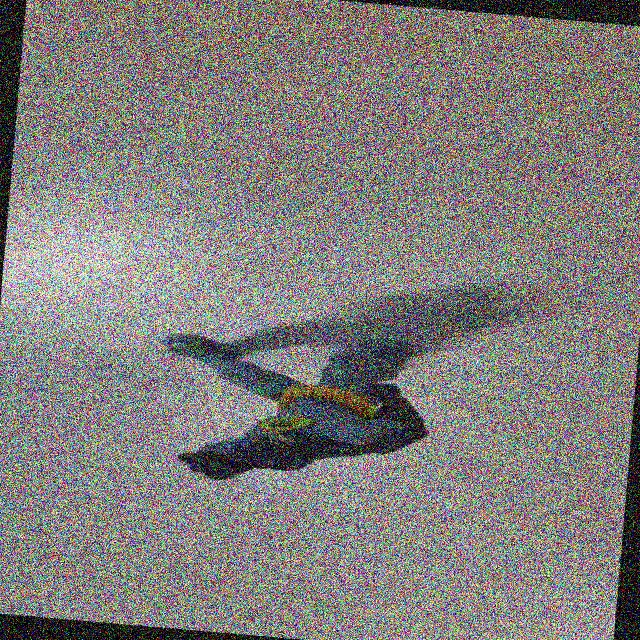Batman: (127, 289, 478, 528)
